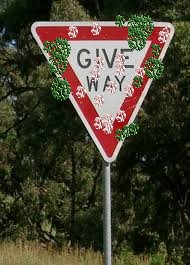giveway: (29, 14, 172, 164), (28, 21, 98, 154), (45, 58, 147, 138), (104, 21, 157, 132), (32, 24, 166, 66)
